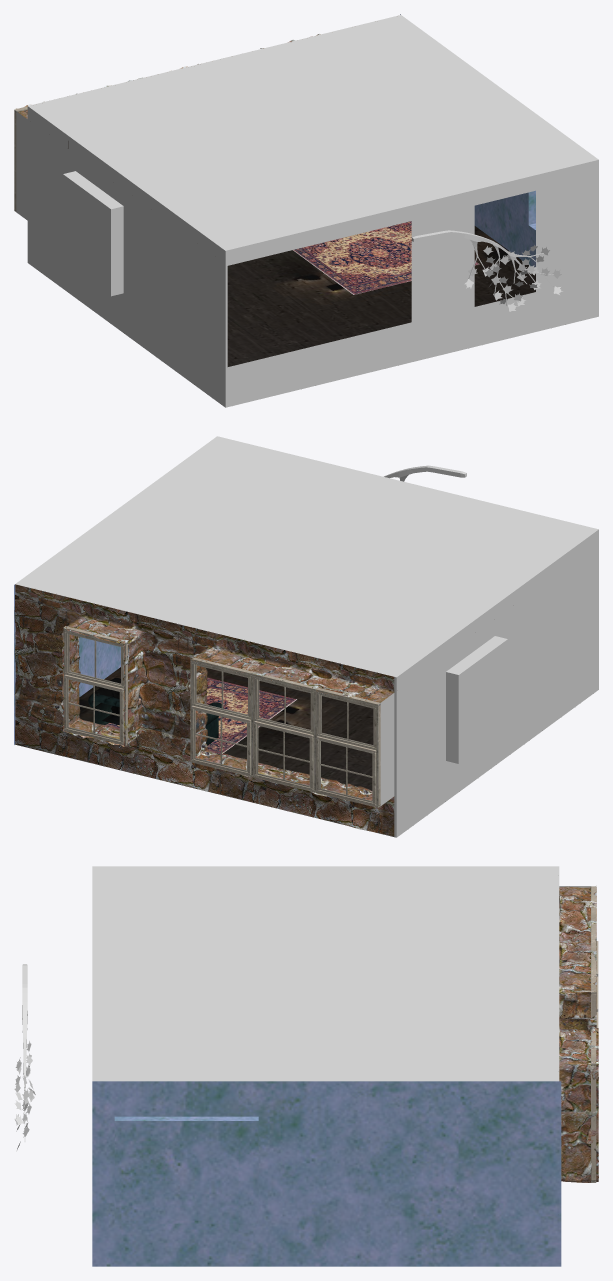
Rendered from walls.glb.
3 views of the same model, one above another, from view 1: azimuth 30°, elevation 25°; view 2: azimuth 150°, elevation 25°; view 3: azimuth 270°, elevation 25° (orthographic). The views are drawn at different scales.
Parts seen in each view (by area): view 1: Walls, floor, Plane.003, Walls.002, Plane; view 2: Walls, Walls.004, floor, Wall window center#2 2x3.006, Wall window center#2 2x3, Wall window center#2 2x3.002, Wall window center#2 2x3.004, Plane.003, Walls.002, Kensington base.001, Plane; view 3: Walls, Walls.002, Walls.004, Plane, Wall window center#2 2x3.
Boxes of the visible parts, x1,y1,x2,y2 form: Walls: [16, 15, 598, 407]; floor: [227, 226, 535, 366]; Plane.003: [293, 221, 479, 294]; Walls.002: [68, 14, 535, 267]; Plane: [411, 230, 562, 311]; Walls: [15, 436, 598, 837]; Walls.004: [14, 584, 394, 836]; floor: [21, 667, 393, 836]; Wall window center#2 2x3.006: [315, 688, 380, 807]; Wall window center#2 2x3: [63, 626, 127, 745]; Wall window center#2 2x3.002: [190, 657, 254, 777]; Wall window center#2 2x3.004: [253, 672, 315, 792]; Plane.003: [105, 677, 296, 754]; Walls.002: [14, 584, 393, 744]; Kensington base.001: [88, 678, 223, 745]; Plane: [384, 465, 466, 481]; Walls: [92, 866, 590, 1081]; Walls.002: [92, 1081, 561, 1266]; Walls.004: [559, 885, 598, 1182]; Plane: [14, 964, 35, 1149]; Wall window center#2 2x3: [591, 1031, 596, 1182].
Size of the model in its own units: 7.88 by 3 by 8.59.
9 materials, 7 textured.
